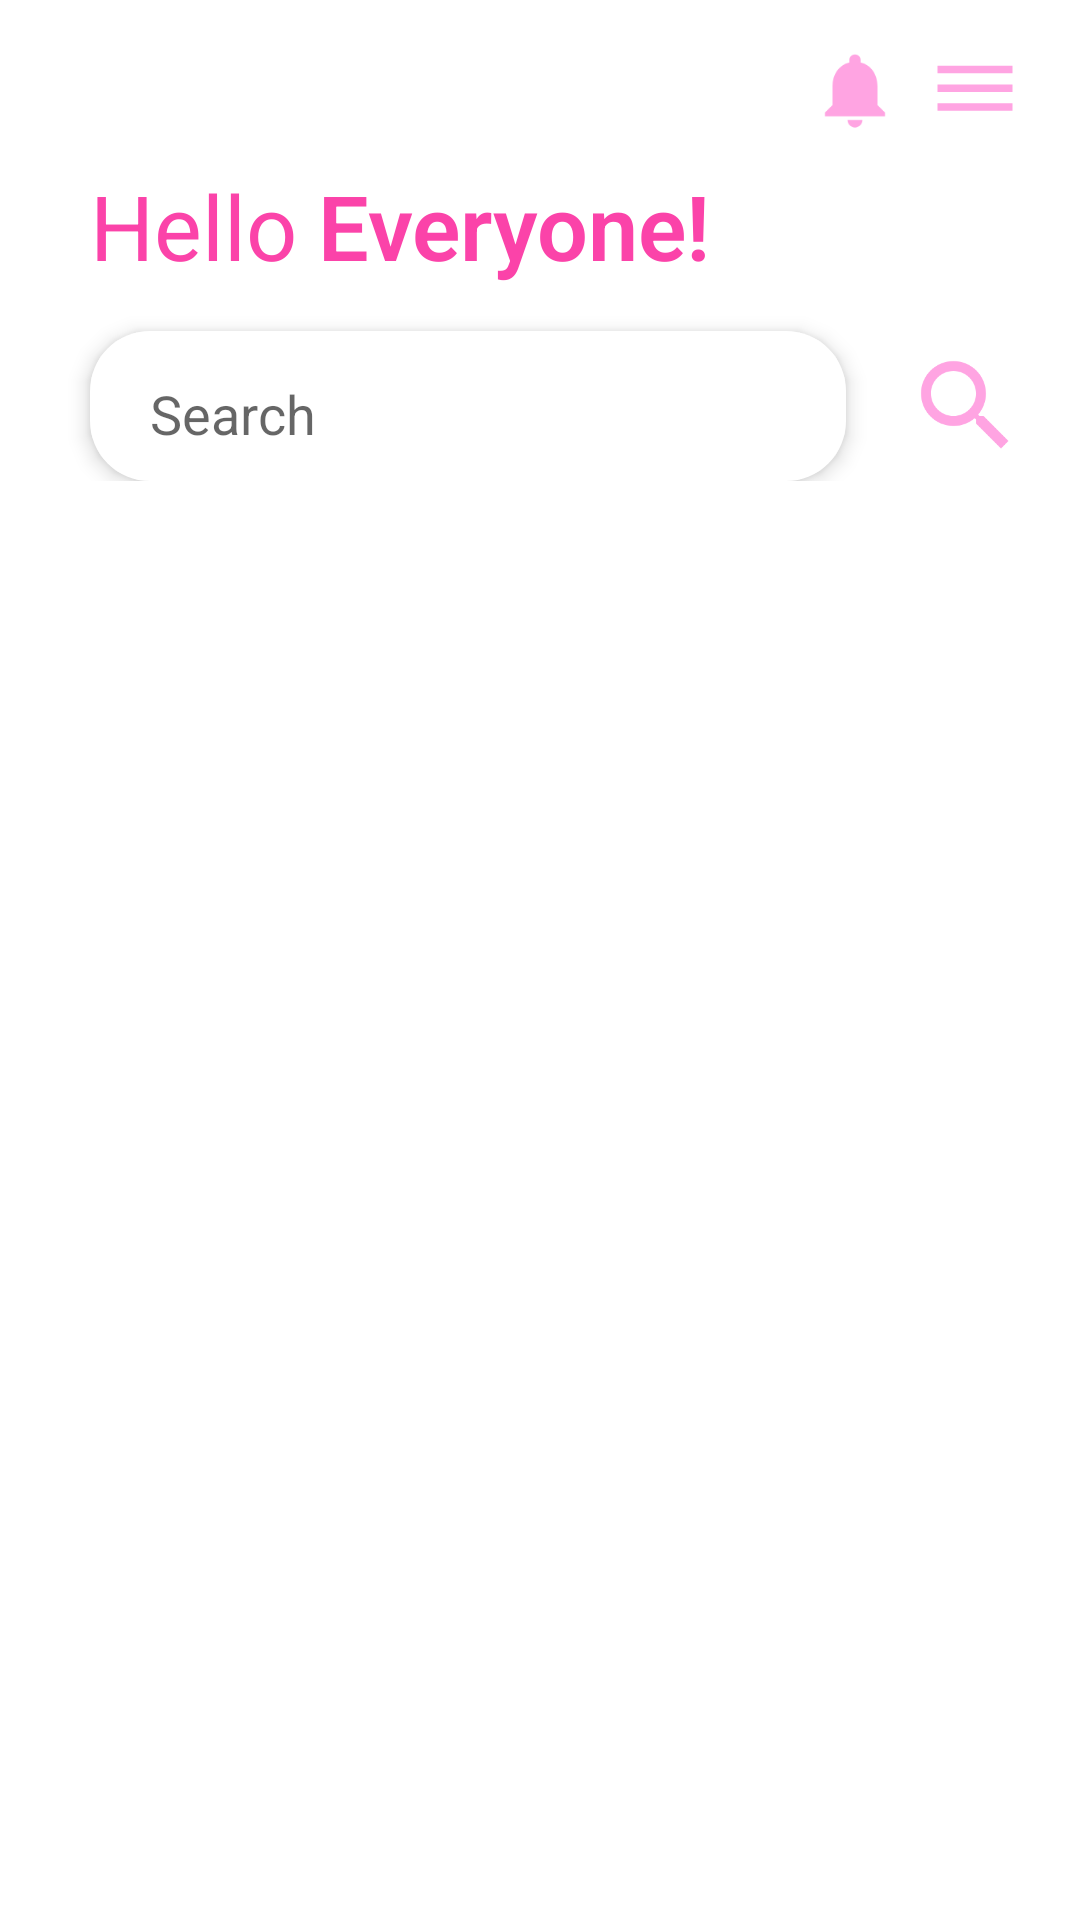

Named icons in this screenshot (1080w x 1920h) and their bounding boxes, (left=x1, top=y1, right=x2, bottom=y2):
drawer: (left=937, top=66, right=1013, bottom=111)
notification: (left=825, top=54, right=885, bottom=128)
